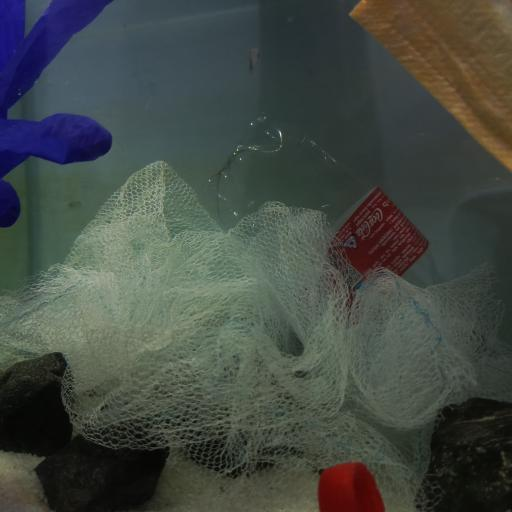bottle_cap: (318, 461, 386, 512)
glove: (1, 0, 113, 232)
mask: (346, 0, 512, 171)
net: (0, 158, 512, 504)
plastic_bottle: (198, 113, 438, 290)
